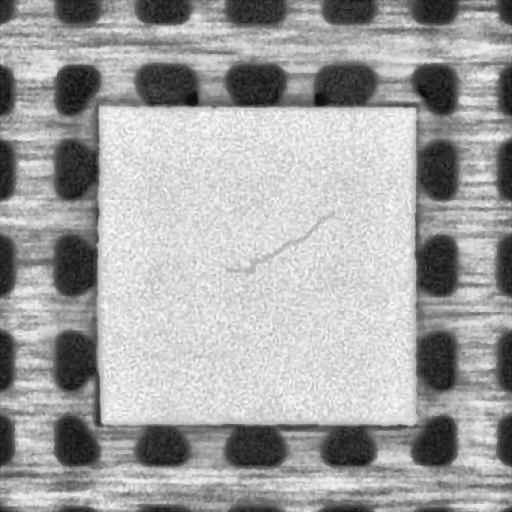DIE_CRACK: (226, 211, 332, 274)
